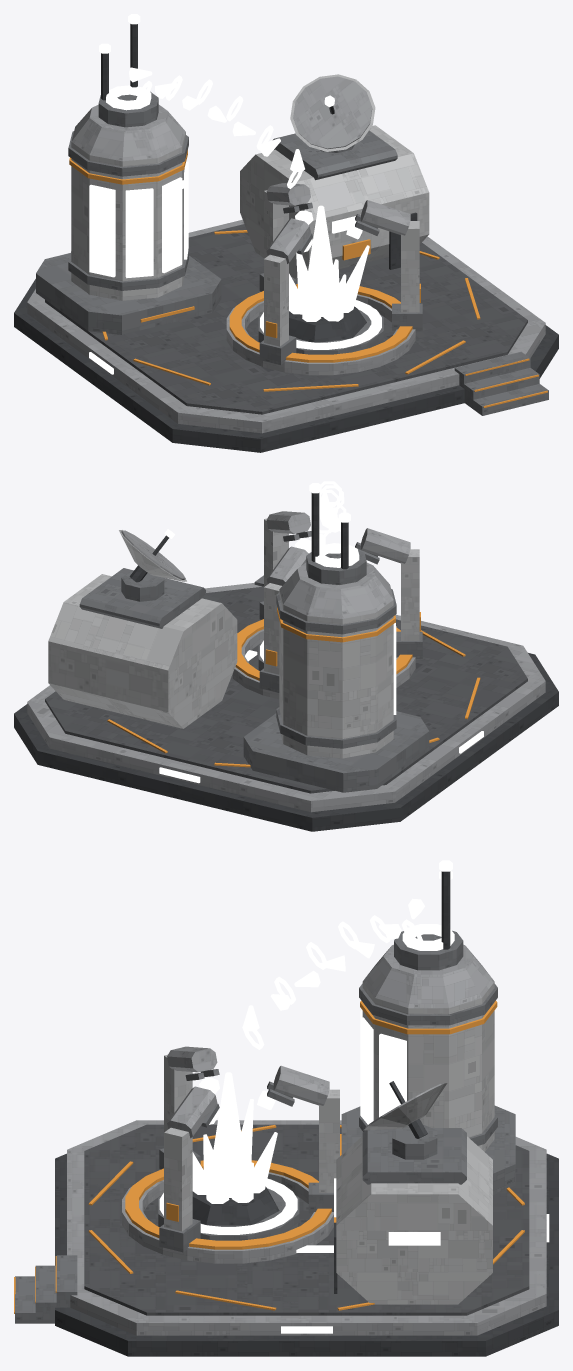
The model's file is rig_crystal_lod0.glb.
3 views of the same model, one above another, from view 1: azimuth 30°, elevation 25°; view 2: azimuth 150°, elevation 25°; view 3: azimuth 270°, elevation 25° (orthographic). The views are drawn at different scales.
Parts seen in each view (by area): view 1: rig_crystal_base_body, rig_crystal_base_glow, rig_crystal_resonator_body, rig_crystal_dish_body, rig_crystal_base_trim, rig_crystal_resonator_trim, rig_crystal_shards_glow; view 2: rig_crystal_base_body, rig_crystal_resonator_body, rig_crystal_base_glow, rig_crystal_dish_body, rig_crystal_base_trim, rig_crystal_resonator_trim; view 3: rig_crystal_base_body, rig_crystal_resonator_body, rig_crystal_base_glow, rig_crystal_resonator_trim, rig_crystal_base_trim, rig_crystal_dish_body, rig_crystal_shards_glow.
Part boxes in pixels (x1,y1,x2,y2): rig_crystal_base_body: (14, 24, 558, 452); rig_crystal_base_glow: (89, 14, 381, 374); rig_crystal_resonator_body: (226, 183, 422, 375); rig_crystal_dish_body: (290, 74, 375, 151); rig_crystal_base_trim: (69, 150, 547, 407); rig_crystal_resonator_trim: (229, 283, 420, 362); rig_crystal_shards_glow: (129, 67, 304, 171); rig_crystal_base_body: (14, 493, 558, 831); rig_crystal_resonator_body: (231, 511, 422, 699); rig_crystal_base_glow: (159, 481, 483, 783); rig_crystal_dish_body: (119, 530, 186, 582); rig_crystal_base_trim: (107, 607, 480, 767); rig_crystal_resonator_trim: (235, 612, 420, 680); rig_crystal_base_body: (15, 871, 558, 1356); rig_crystal_resonator_body: (122, 1046, 339, 1263); rig_crystal_base_glow: (159, 860, 549, 1333); rig_crystal_resonator_trim: (125, 1160, 331, 1249); rig_crystal_base_trim: (14, 1000, 524, 1313); rig_crystal_dish_body: (363, 1081, 447, 1138); rig_crystal_shards_glow: (242, 898, 424, 1031).
Bounding box in the file's own units: 2.9 × 2.14 × 3.13.
3 materials, 1 textured.
